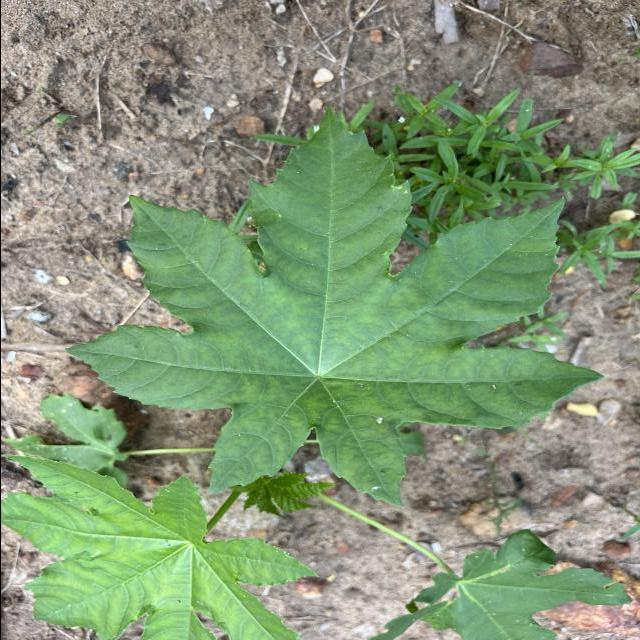Ricinus communis linn: (61, 100, 610, 512)
